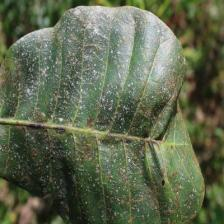red rust: (0, 4, 206, 224)
